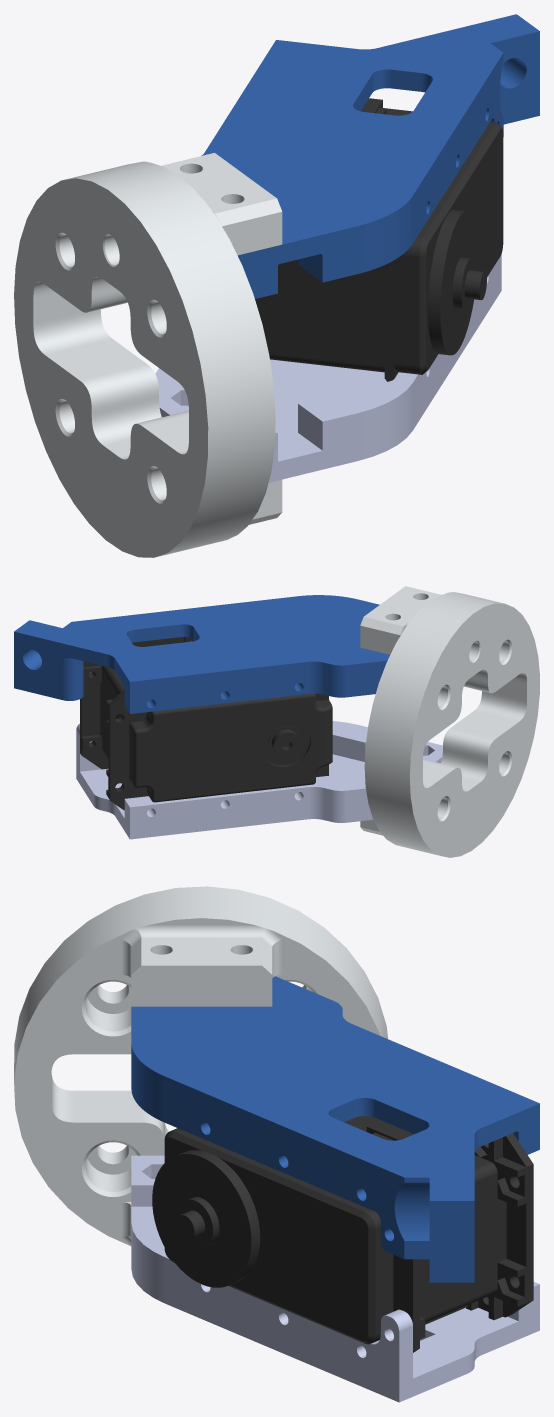
File: 04_MX106-Assem_20200831.dae
The picture shows the model from 3 angles, top to bottom: view 1: azimuth 30°, elevation 25°; view 2: azimuth 150°, elevation 25°; view 3: azimuth 270°, elevation 25°; orthographic projection. The views are drawn at different scales.
Parts seen in each view (by area): view 1: _04 (×4); view 2: _04 (×4); view 3: _04 (×4).
Boxes of the visible parts, bbox=[...] form: _04 (×4): bbox=[14, 14, 539, 557]; _04 (×4): bbox=[14, 586, 539, 857]; _04 (×4): bbox=[14, 886, 539, 1402].
Size of the model in its own units: 122 by 105 by 75.
